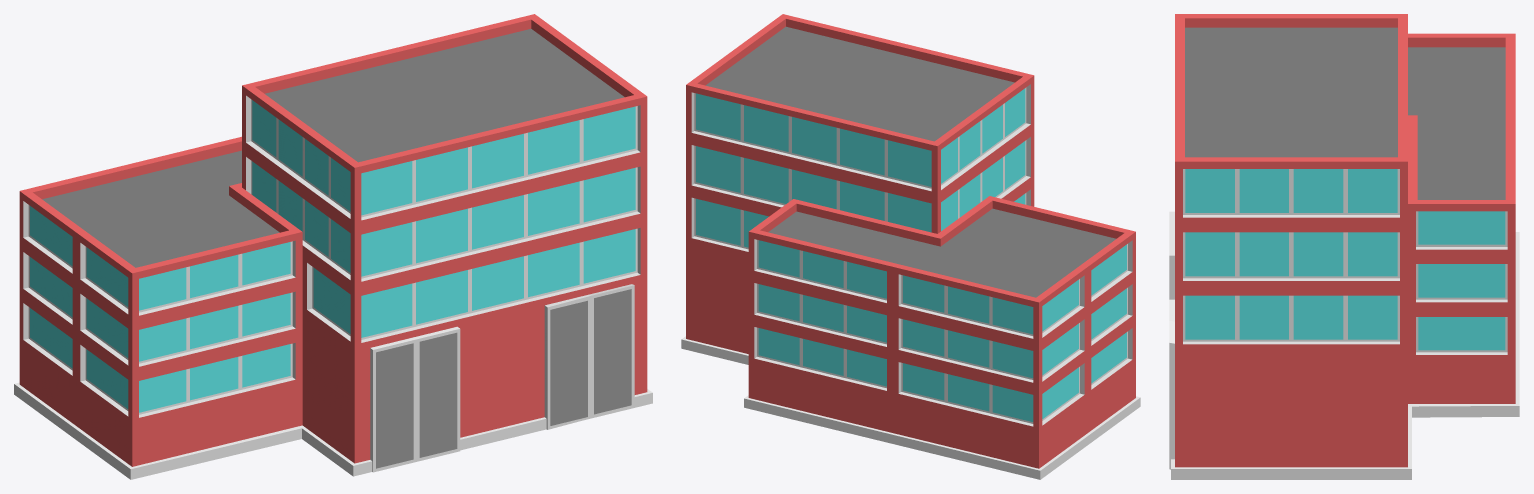
File: SM_House_20_02.FBX
3 renders of one model, left to right at view 1: azimuth 30°, elevation 25°; view 2: azimuth 150°, elevation 25°; view 3: azimuth 270°, elevation 25°, orthographic. The views are drawn at different scales.
Parts seen in each view (by area): view 1: SM_House_20_02; view 2: SM_House_20_02; view 3: SM_House_20_02.
Part boxes in pixels (x1,y1,x2,y2): SM_House_20_02: (14,14,652,479); SM_House_20_02: (681,14,1140,479); SM_House_20_02: (1169,14,1519,479).
Bounding box in the file's own units: 9.63 × 6 × 6.02.
1 material, 1 textured.
